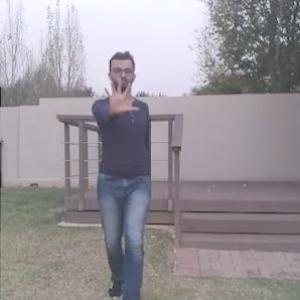follow_hand: (101, 74, 141, 116)
